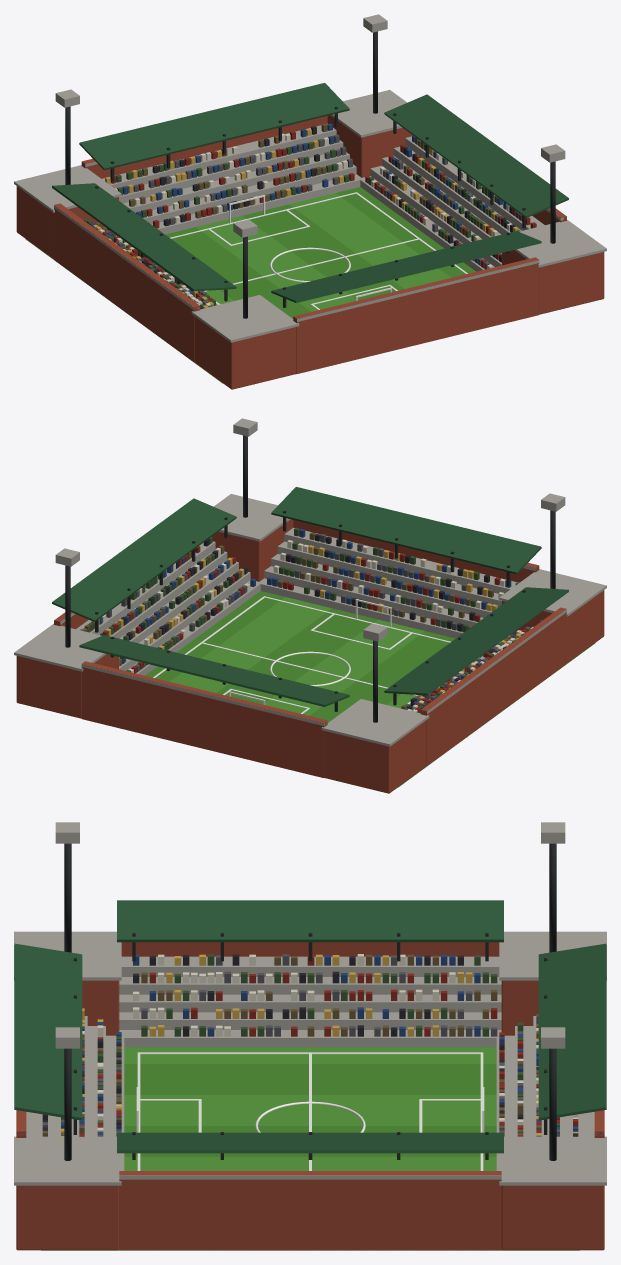
Rendered from estadio.glb.
3 renders of one model, top to bottom at view 1: azimuth 30°, elevation 25°; view 2: azimuth 150°, elevation 25°; view 3: azimuth 270°, elevation 25°, orthographic. The views are drawn at different scales.
Visible parts, largest first — view 1: muro.003, telhado.001, muro.002, telhado, telhado.002, canto.003, telhado.003, campo_faixa2, campo_faixa3, campo_faixa4, canto.002, campo_faixa5 (+35 smaller); view 2: muro.001, telhado.003, muro.002, telhado, telhado.002, canto.001, telhado.001, campo_faixa2, campo_faixa3, campo_faixa4, canto, campo_faixa5 (+36 smaller); view 3: muro, telhado.002, campo_faixa5, campo_faixa4, telhado.001, telhado.003, telhado, canto, canto.002, campo_faixa6, degrau.010, degrau.014 (+32 smaller).
Boxes of the visible parts, x1,y1,x2,y2 form: muro.003: (293,257,539,373); telhado.001: (79,83,349,170); muro.002: (54,203,200,362); telhado: (384,94,568,217); telhado.002: (52,183,236,291); canto.003: (194,316,296,389); telhado.003: (271,231,541,302); campo_faixa2: (289,193,450,288); campo_faixa3: (243,204,404,300); campo_faixa4: (196,215,355,311); canto.002: (502,250,604,314); campo_faixa5: (165,227,311,318); muro.001: (81,661,327,777); telhado.003: (271,487,541,574); muro.002: (420,607,566,766); telhado: (52,498,236,621); telhado.002: (384,587,568,695); canto.001: (324,720,426,793); telhado.001: (79,635,349,706); campo_faixa2: (170,597,331,692); campo_faixa3: (216,608,377,704); campo_faixa4: (265,619,424,715); canto: (16,654,118,718); campo_faixa5: (309,631,455,722); muro: (119,1171,501,1250); telhado.002: (117,900,503,942); campo_faixa5: (124,1064,496,1094); campo_faixa4: (124,1095,496,1125); telhado.001: (538,943,606,1120); telhado.003: (14,943,82,1120); telhado: (117,1132,503,1153); canto: (501,1185,604,1250); canto.002: (16,1185,119,1250); campo_faixa6: (124,1047,496,1063); degrau.010: (119,1030,501,1047); degrau.014: (121,956,499,976).
Bounding box in the file's own units: 24.2 × 8.88 × 24.2.
